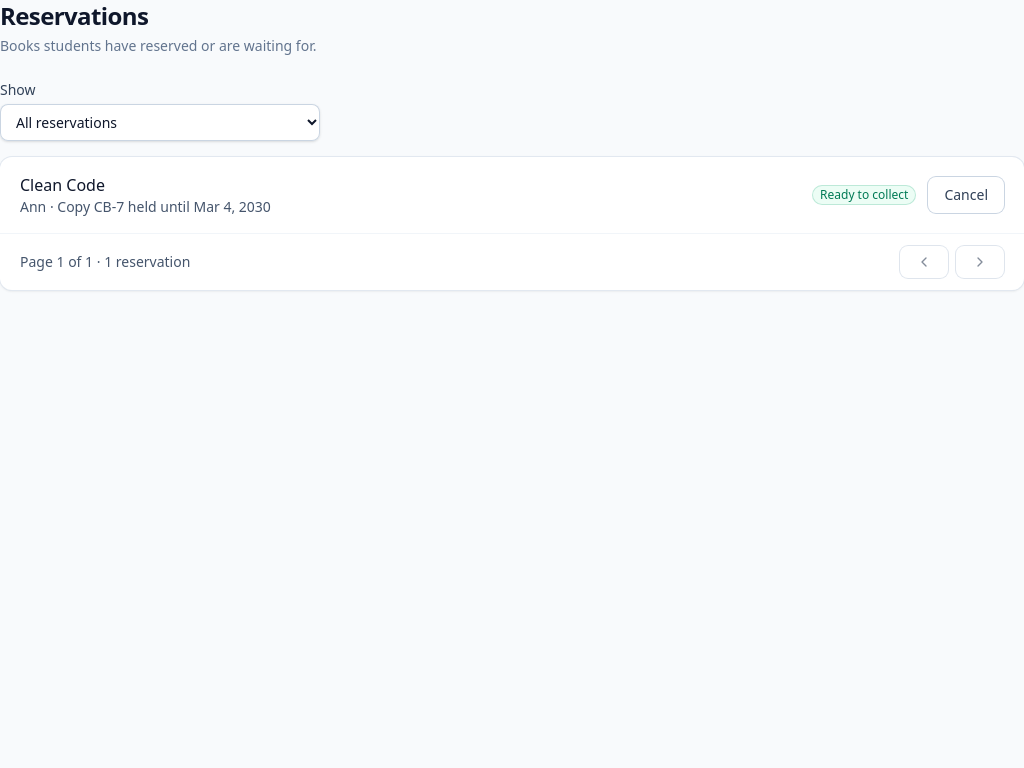
StaffReservationsPage › cancels any active reservation after confirmation and explains what happens to a held copy
The image size is (1024, 768).
Click the button with aria-label "Cancel Ann's reservation for Clean Code" at [966, 195], box 928,177 -> 1004,213
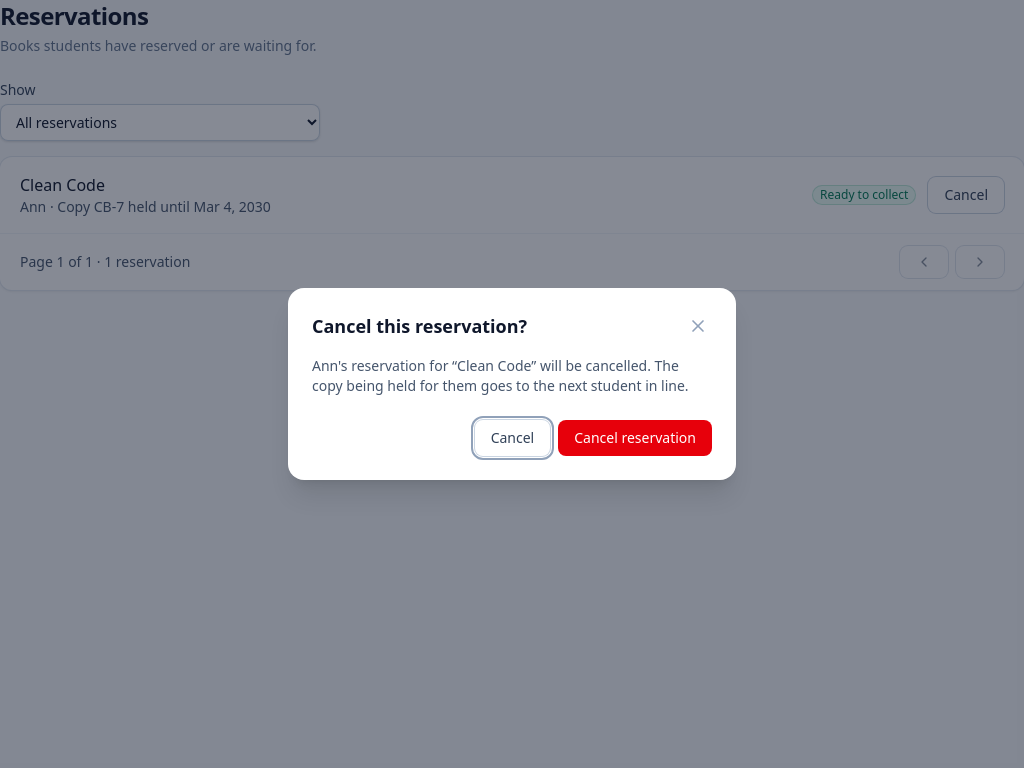
Expected: the text "goes to the next student in line" is shown, 312,356 -> 689,395
Click the button "Cancel reservation" at [635, 438], box 558,420 -> 712,456
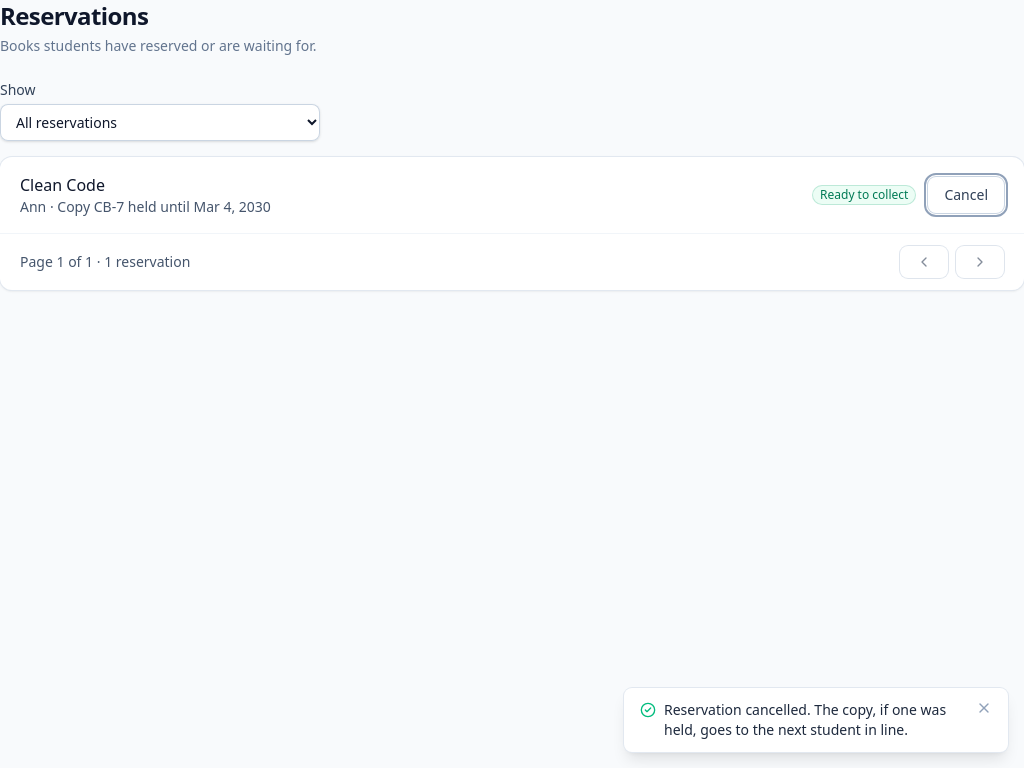
Expected: the text "Reservation cancelled." is shown, 664,700 -> 946,739
